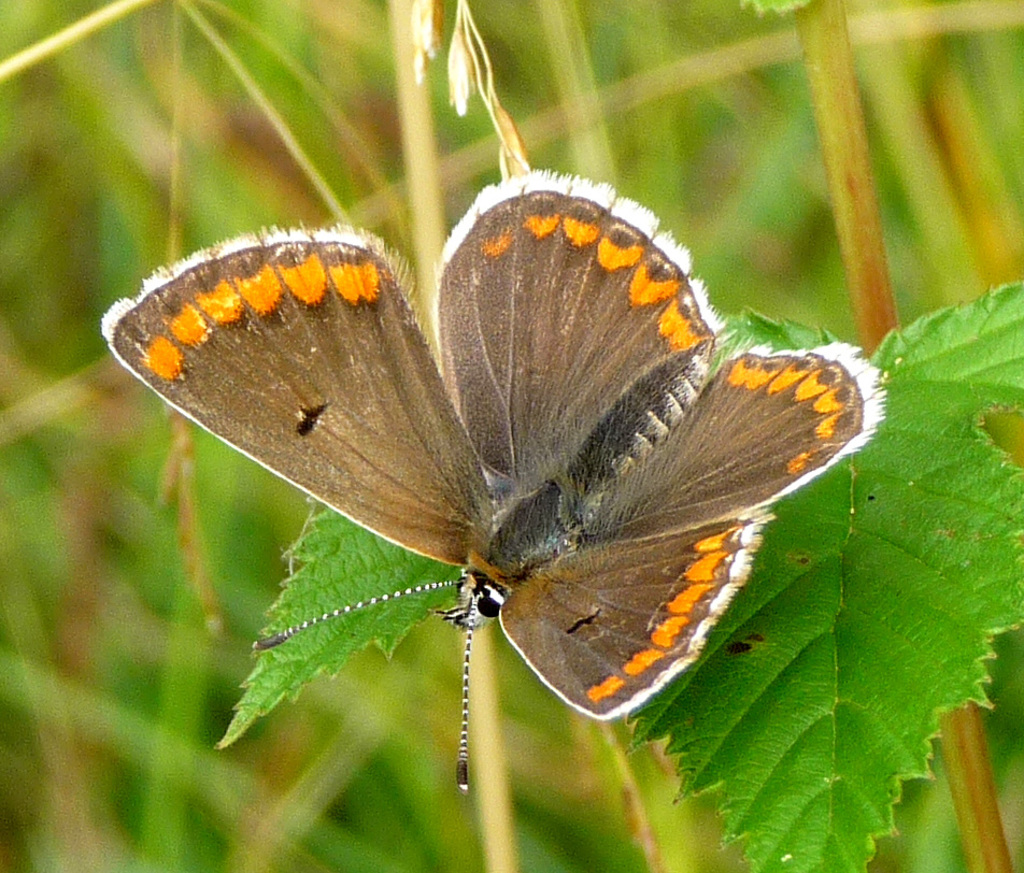Butterfly: (99, 132, 908, 793)
